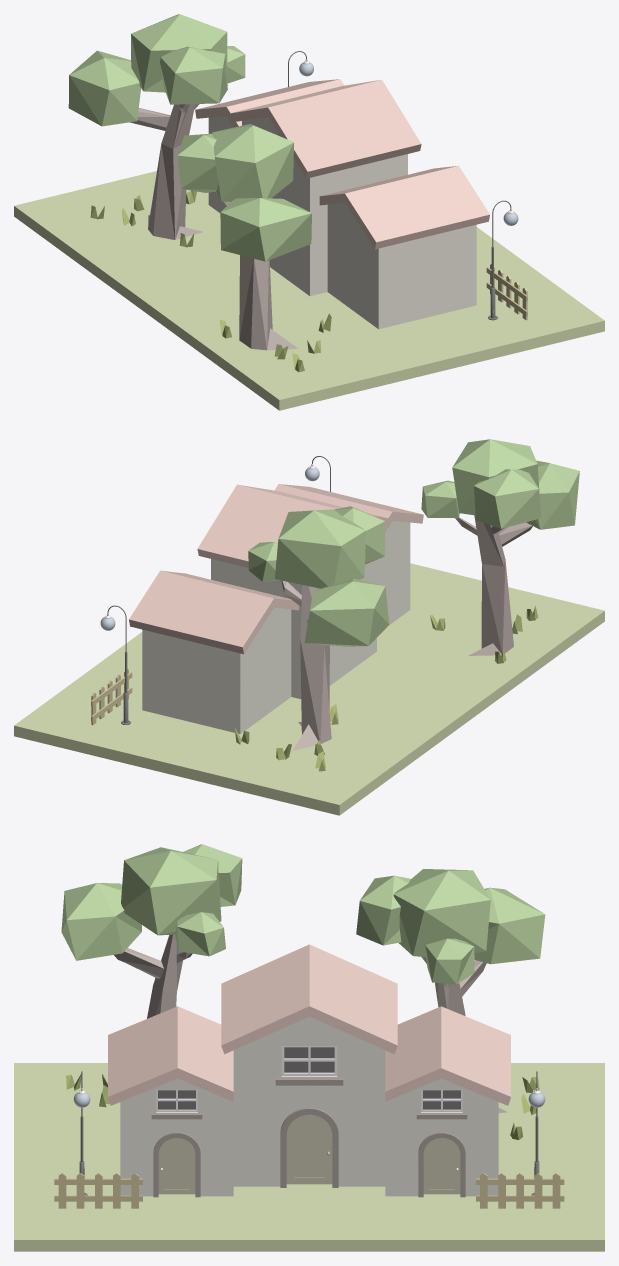
File: house.glb
The picture shows the model from 3 angles, top to bottom: view 1: azimuth 30°, elevation 25°; view 2: azimuth 150°, elevation 25°; view 3: azimuth 270°, elevation 25°; orthographic projection. The views are drawn at different scales.
Visible parts, largest first — view 1: House; view 2: House; view 3: House, mainDoor, leftDoor, rightDoor, mainWindow, rightWindow, leftWindow.
Part boxes in pixels (bbox=[...]): House: bbox=[14, 14, 604, 410]; House: bbox=[14, 439, 604, 815]; House: bbox=[14, 844, 604, 1251]; mainDoor: bbox=[280, 1107, 338, 1187]; leftDoor: bbox=[153, 1132, 200, 1197]; rightDoor: bbox=[418, 1132, 465, 1197]; mainWindow: bbox=[275, 1046, 343, 1085]; rightWindow: bbox=[416, 1089, 467, 1119]; leftWindow: bbox=[151, 1089, 202, 1119].
Bounding box in the file's own units: 8.75 × 5.61 × 11.71.
2 materials, 2 textured.
